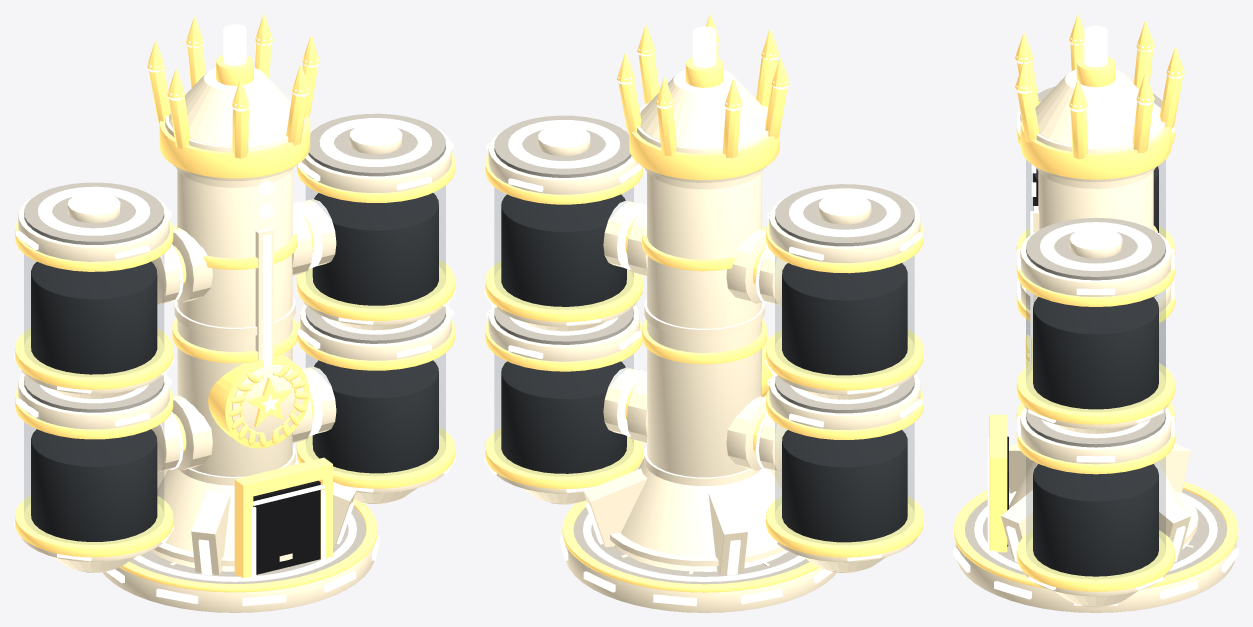
Rendered from Vat_Graduate_T3.glb.
3 renders of one model, left to right at view 1: azimuth 30°, elevation 25°; view 2: azimuth 150°, elevation 25°; view 3: azimuth 270°, elevation 25°, orthographic.
Visible parts, largest first — view 1: Vat_Graduate_T3; view 2: Vat_Graduate_T3; view 3: Vat_Graduate_T3.
Part boxes in pixels (x1,y1,x2,y2): Vat_Graduate_T3: [14, 14, 455, 612]; Vat_Graduate_T3: [484, 14, 924, 612]; Vat_Graduate_T3: [953, 14, 1238, 612].
Size of the model in its own units: 6.55 by 7.92 by 3.87.
